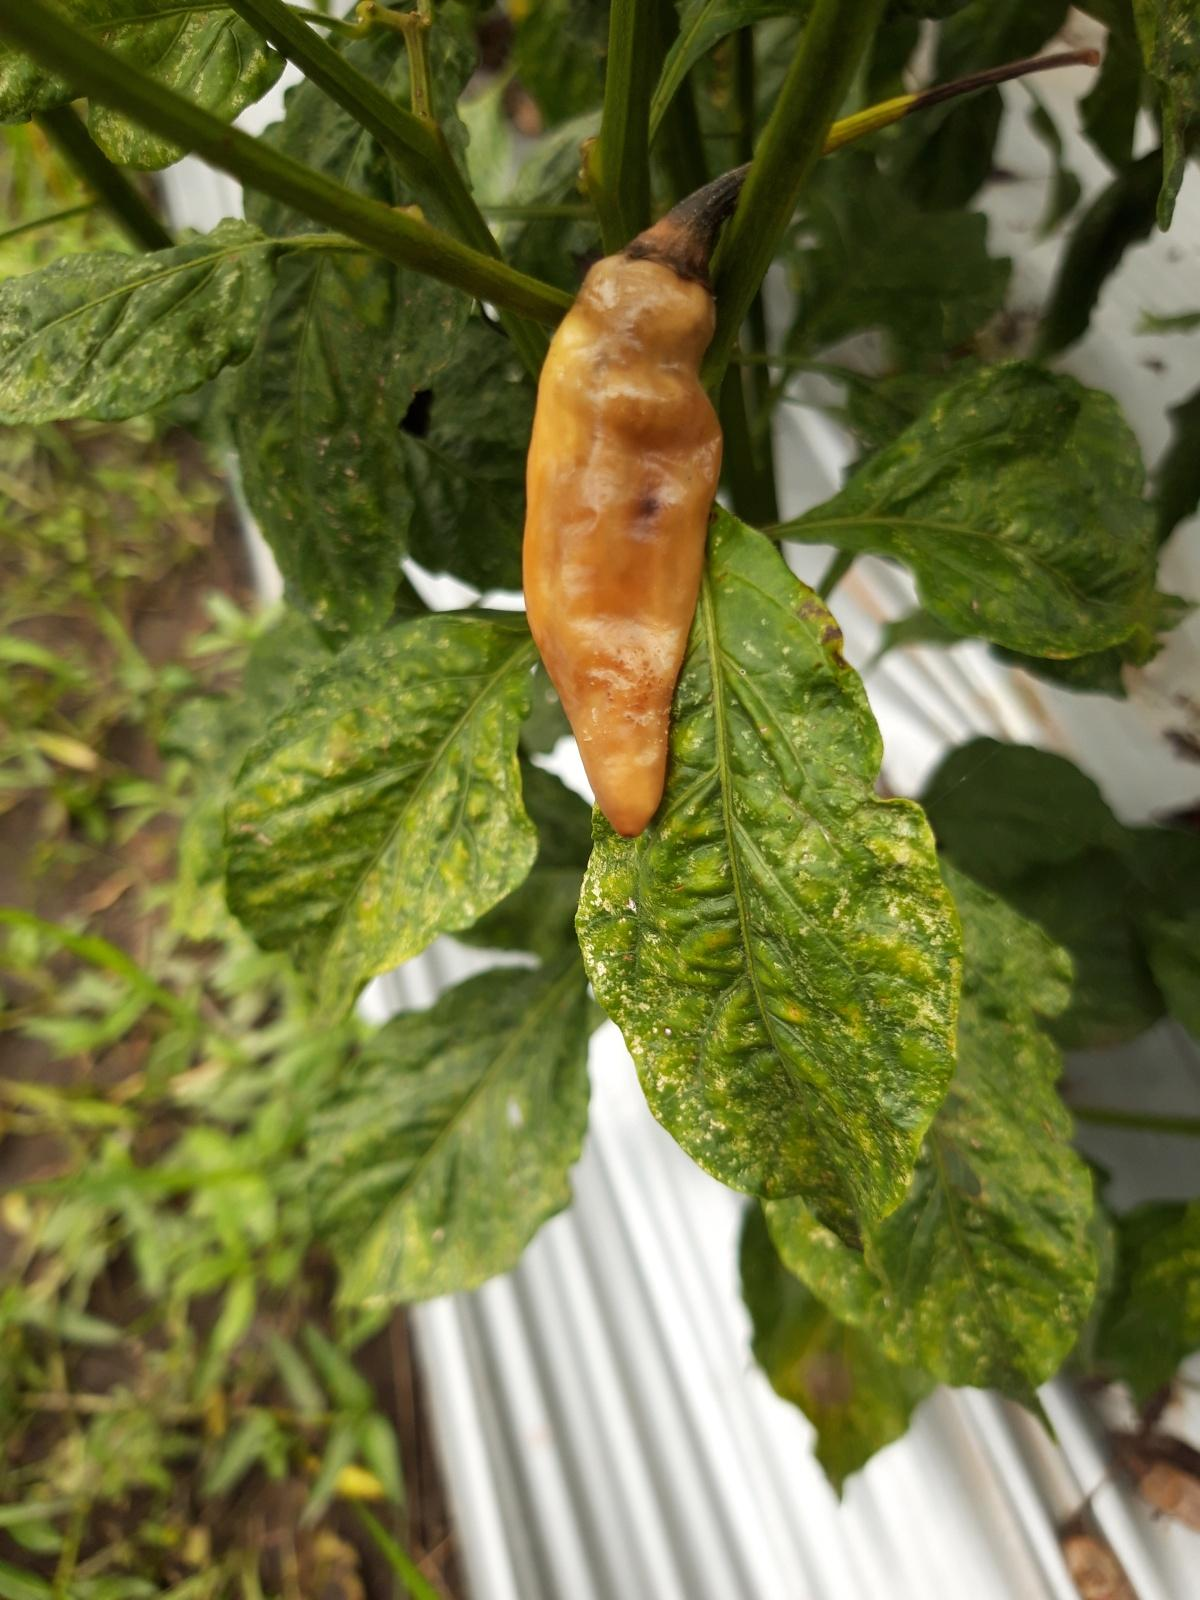lalat_buah: (521, 218, 729, 845)
